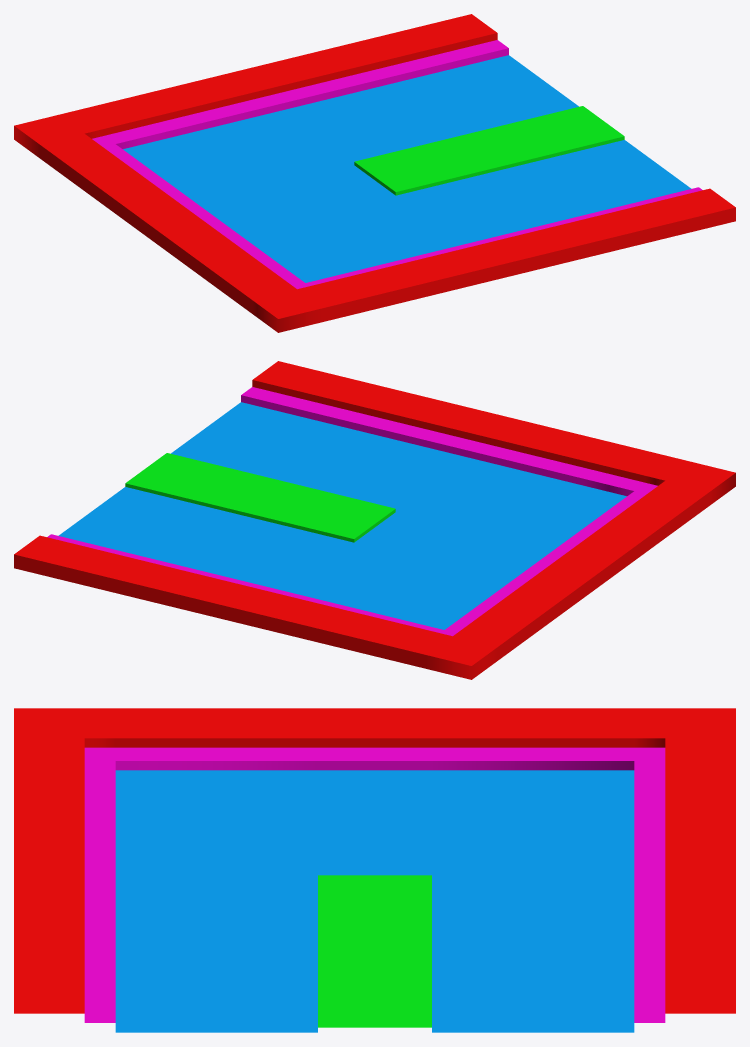
The model's file is FloorEnd.fbx.
The picture shows the model from 3 angles, top to bottom: view 1: azimuth 30°, elevation 25°; view 2: azimuth 150°, elevation 25°; view 3: azimuth 270°, elevation 25°; orthographic projection. The views are drawn at different scales.
Parts seen in each view (by area): view 1: End; view 2: End; view 3: End.
Part boxes in pixels (x1,y1,x2,y2): End: (14, 14, 735, 332); End: (14, 361, 735, 679); End: (14, 708, 735, 1032).
Bounding box in the file's own units: 78.74 × 2.28 × 78.74.
